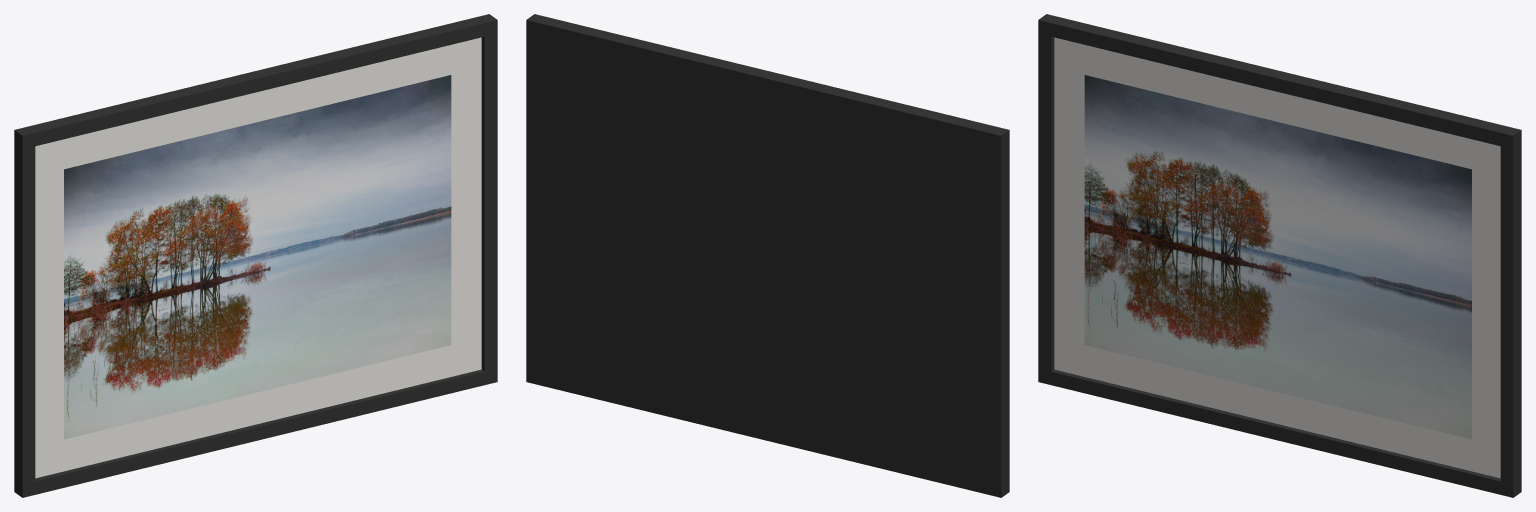
The model's file is spegeln-60.gltf.
3 views of the same model, side by side, from view 1: azimuth 30°, elevation 25°; view 2: azimuth 150°, elevation 25°; view 3: azimuth 330°, elevation 25° (orthographic).
Parts seen in each view (by area): view 1: tavla; view 2: tavla; view 3: tavla.
Boxes of the visible parts, x1,y1,x2,y2 form: tavla: (14, 14, 497, 497); tavla: (526, 14, 1009, 497); tavla: (1038, 14, 1521, 497).
Size of the model in its own units: 0.736 by 0.536 by 0.022.
Materials: 3 (1 with a texture image).
